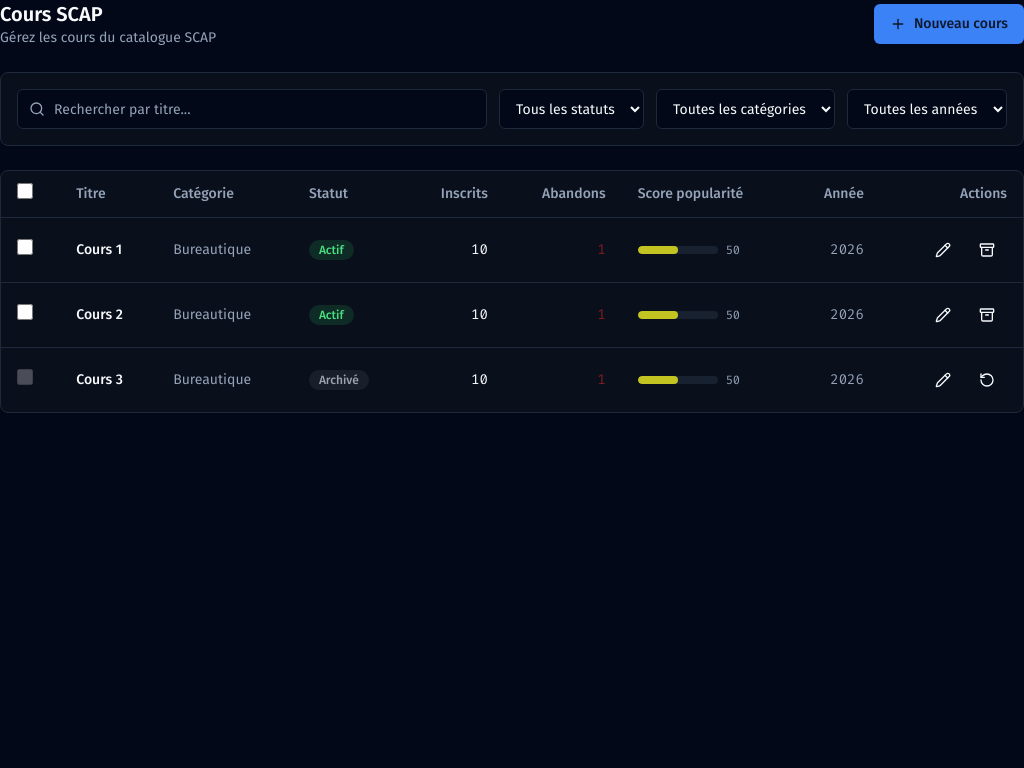
Test: Confirmation › n’archive rien sans passer par le dialogue
This screenshot has width=1024, height=768.
Expected: the text "Cours 1" is shown, [60, 218, 157, 282]
What coordinates should you click on to do the following:
click the checkbox named "Sélectionner « Cours 1 »"
I would click on:
 (25, 247)
Its box is [17, 239, 33, 255].
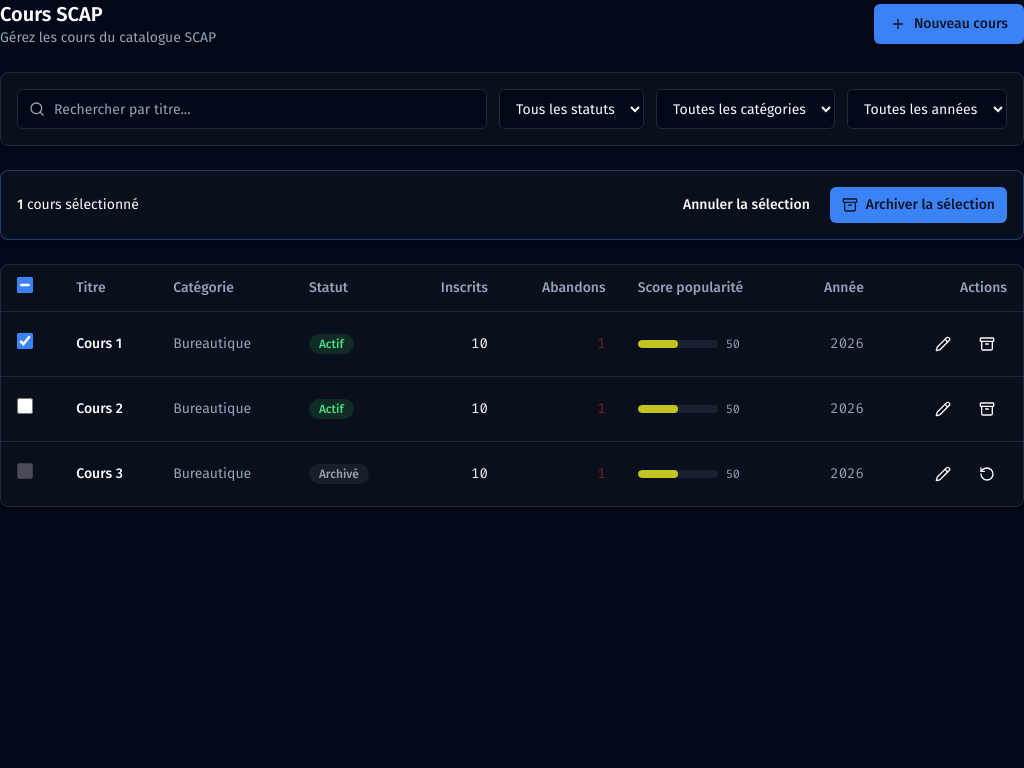
What coordinates should you click on to do the following:
click the button "Archiver la sélection"
I would click on:
 (918, 205)
Its box is [830, 187, 1007, 223].
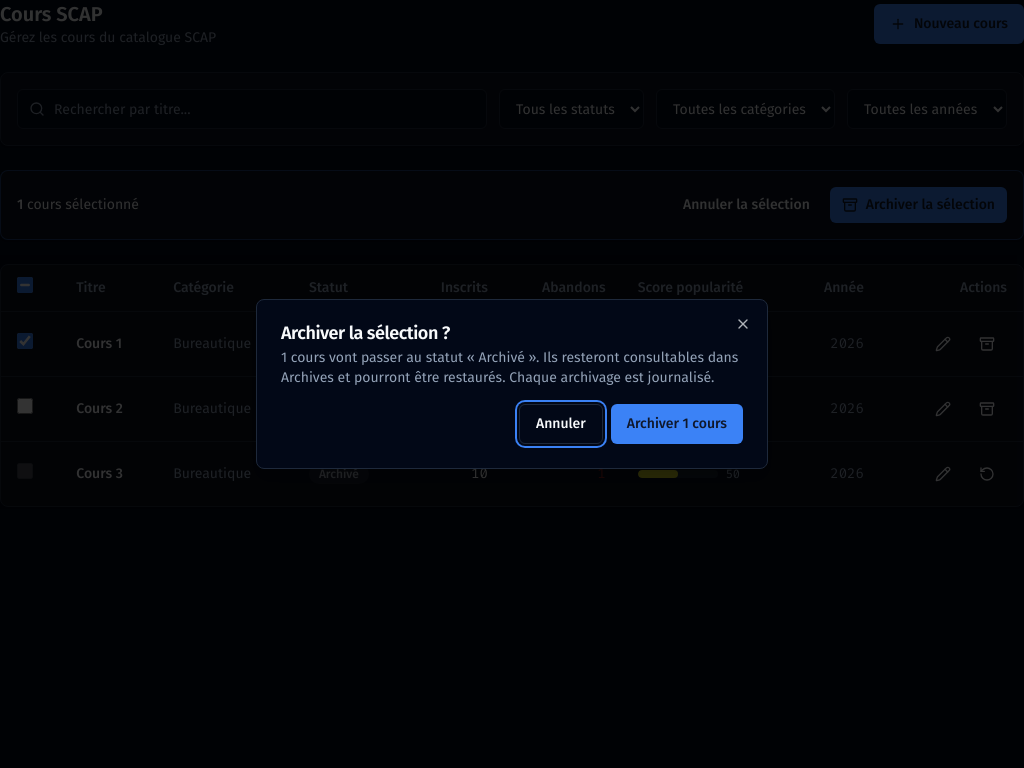
Expected: the heading "Archiver la sélection ?" is shown, [281, 322, 450, 344]
